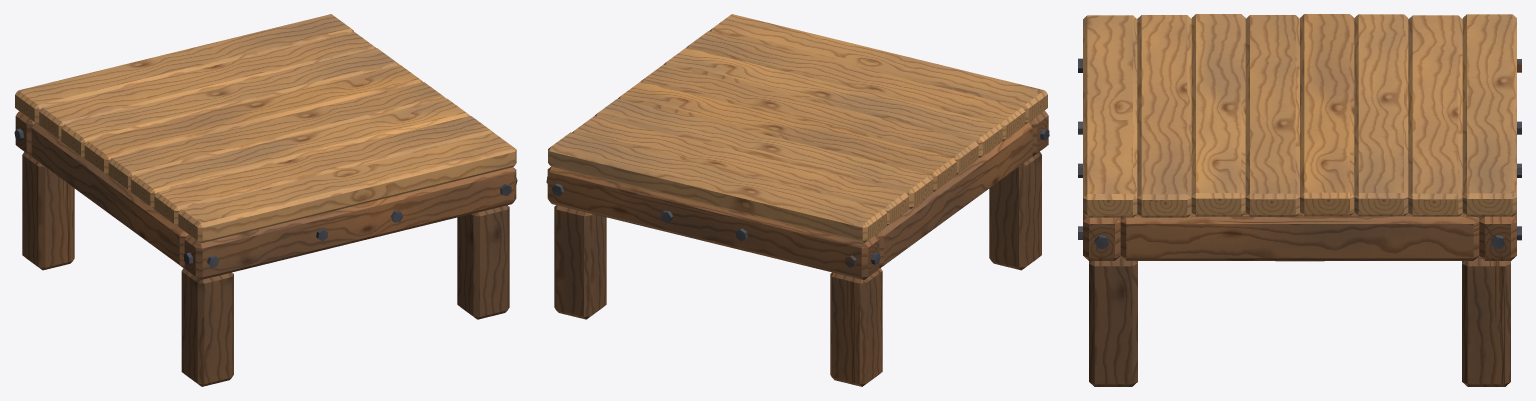
Rendered from kare_temel.glb.
The picture shows the model from 3 angles, left to right: view 1: azimuth 30°, elevation 25°; view 2: azimuth 150°, elevation 25°; view 3: azimuth 270°, elevation 25°; orthographic projection. The views are drawn at different scales.
Parts seen in each view (by area): view 1: kare_temel; view 2: kare_temel; view 3: kare_temel.
Part boxes in pixels (x1=…): kare_temel: x1=14, y1=14, x2=517, y2=386; kare_temel: x1=546, y1=14, x2=1049, y2=386; kare_temel: x1=1078, y1=14, x2=1521, y2=386.
Bounding box in the file's own units: 3.07 × 1.5 × 3.07.
1 material, 1 textured.
